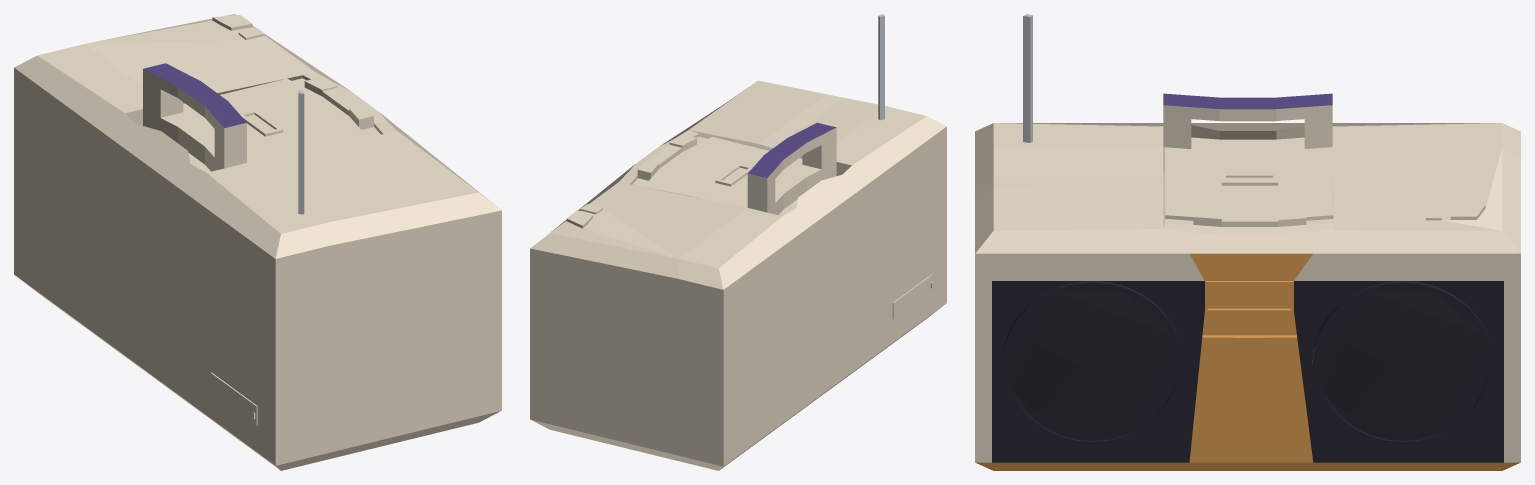
The model's file is radio.glb.
The picture shows the model from 3 angles, left to right: view 1: azimuth 30°, elevation 25°; view 2: azimuth 150°, elevation 25°; view 3: azimuth 270°, elevation 25°; orthographic projection. The views are drawn at different scales.
Parts seen in each view (by area): view 1: Cube; view 2: Cube; view 3: Cube.
Boxes of the visible parts, <box> form: Cube: <box>14,14,501,470</box>; Cube: <box>530,14,946,470</box>; Cube: <box>975,14,1520,470</box>.
Size of the model in its own units: 0.1445 by 0.2113 by 0.28.
